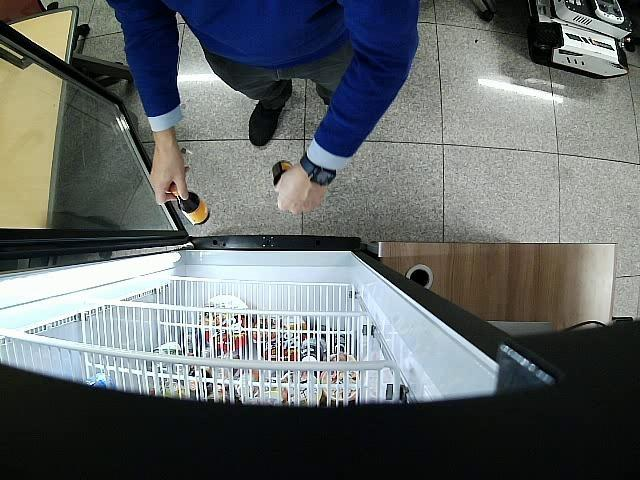17_vita500: (171, 185, 210, 224), (271, 160, 292, 188)
